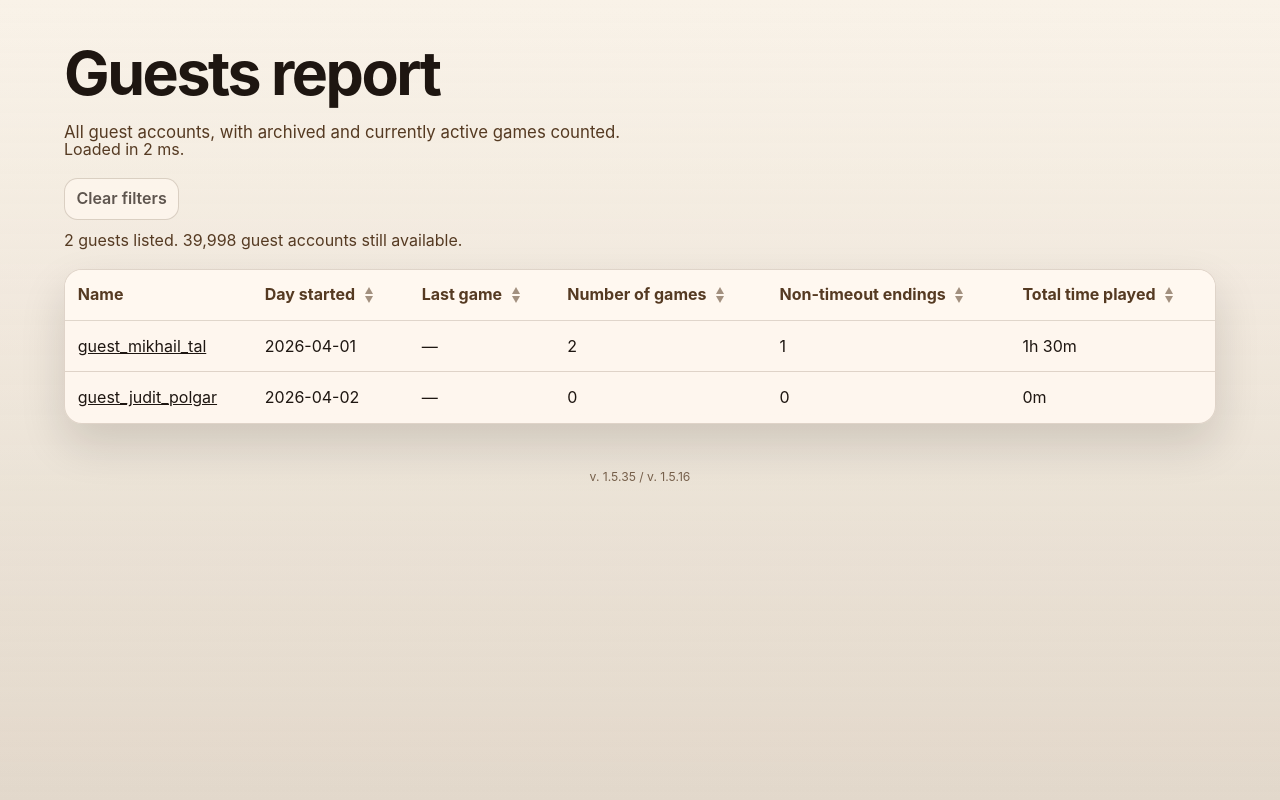
Scenario: GuestsReportPage › filters_categorical_guest_columns_from_the_header_menu
Expected: the link "guest_mikhail_tal" is shown, [78,336,206,356]
Click the button "Day started" at (310, 295), box [265,282,355,307]
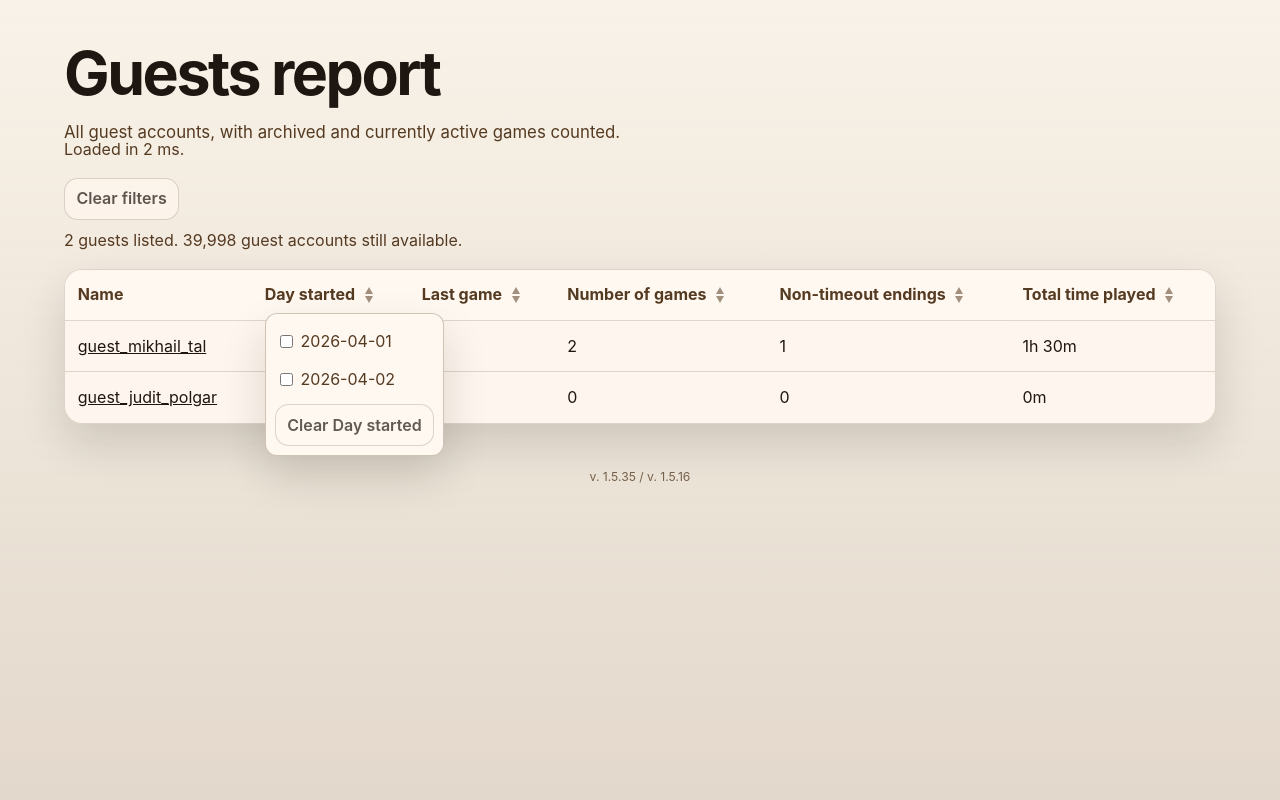
Click the checkbox labelled "2026-04-02" at (287, 379), box [280,373,293,386]
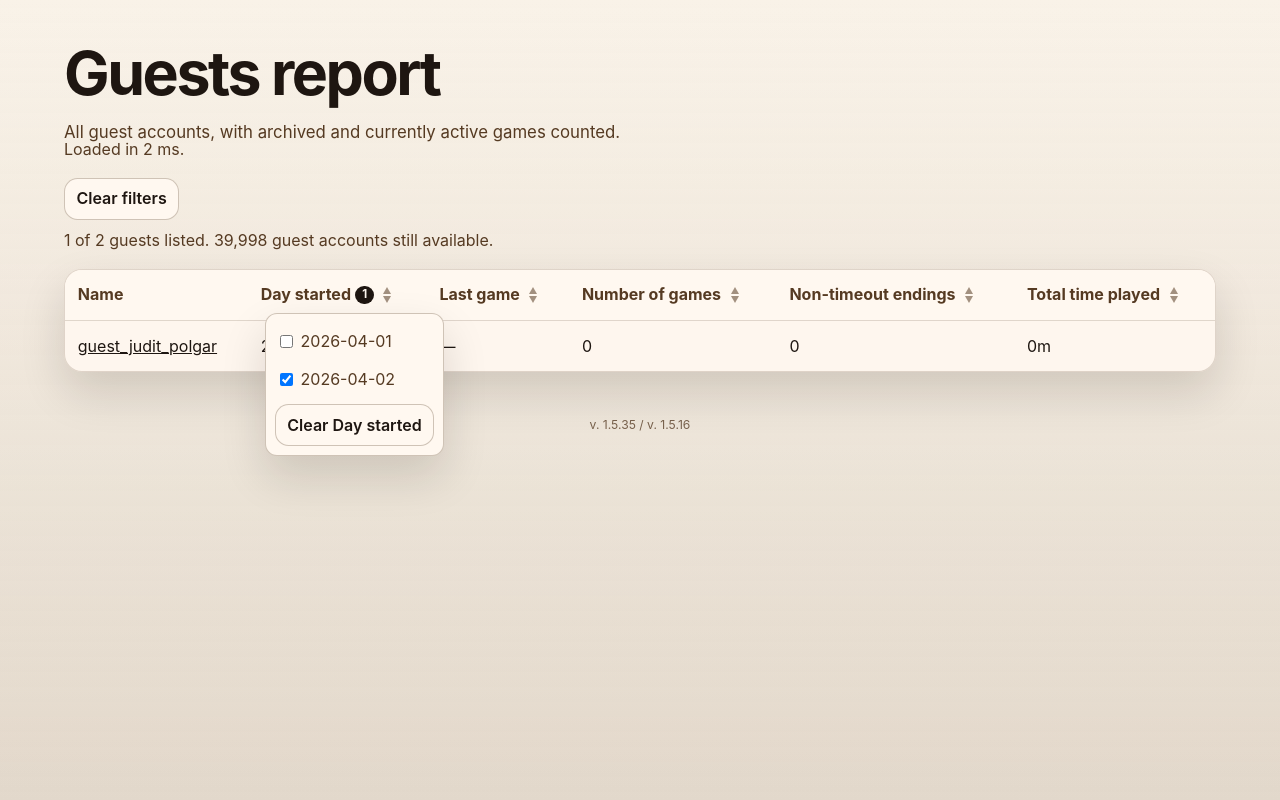
Expected: the link "guest_mikhail_tal" is gone
Expected: the text "1 of 2 guests listed. 39,998 guest accounts still available." is shown, [64,230,493,250]
Expected: the button "Day started 1" is shown, [261,282,374,307]
Click the button "Clear filters" at (122, 199), box [64,178,179,220]
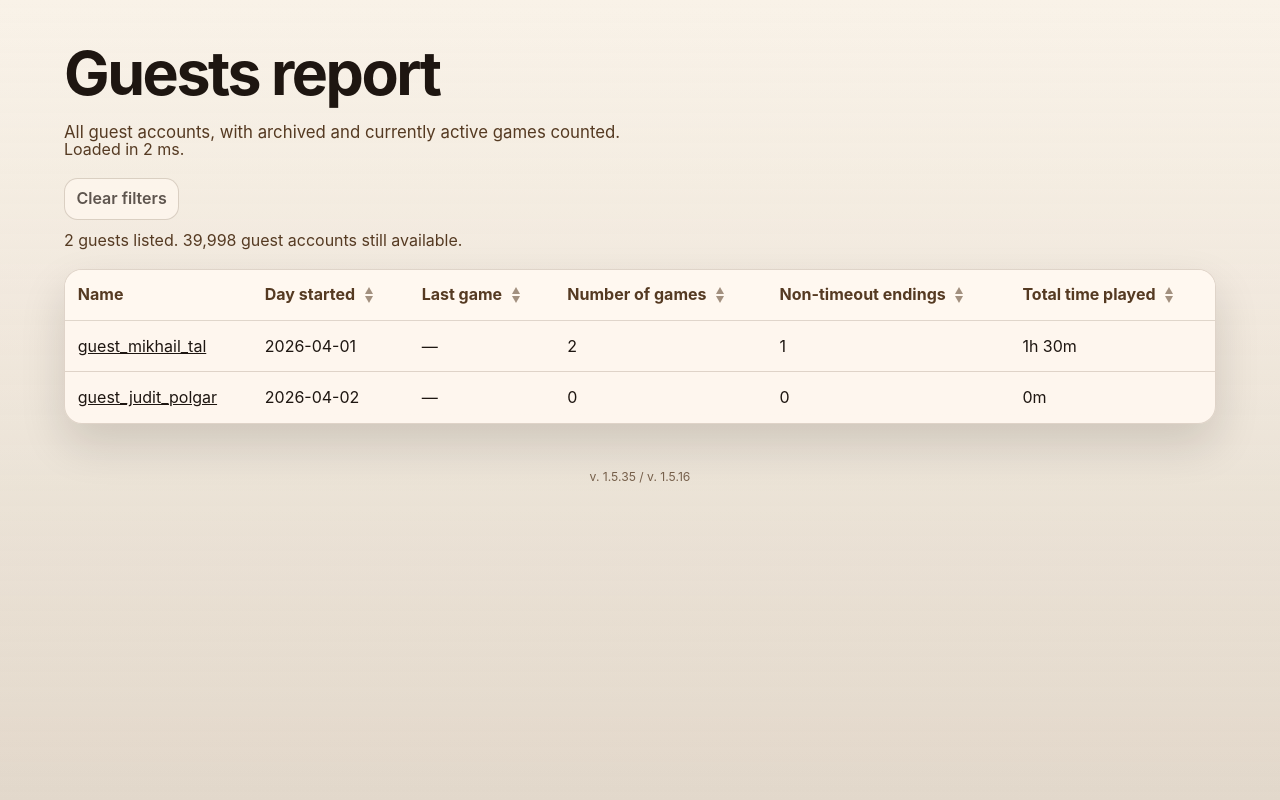
Expected: the link "guest_judit_polgar" is shown, [78,387,217,407]
Expected: the link "guest_mikhail_tal" is shown, [78,336,206,356]
